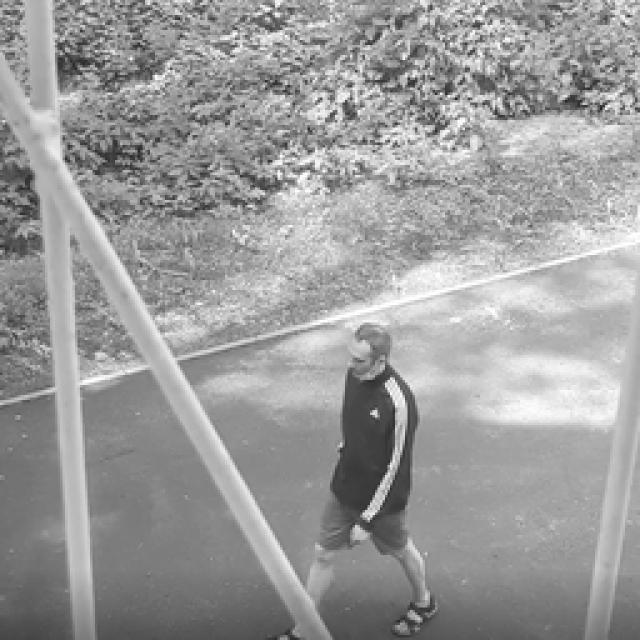Invader: (260, 318, 440, 638)
